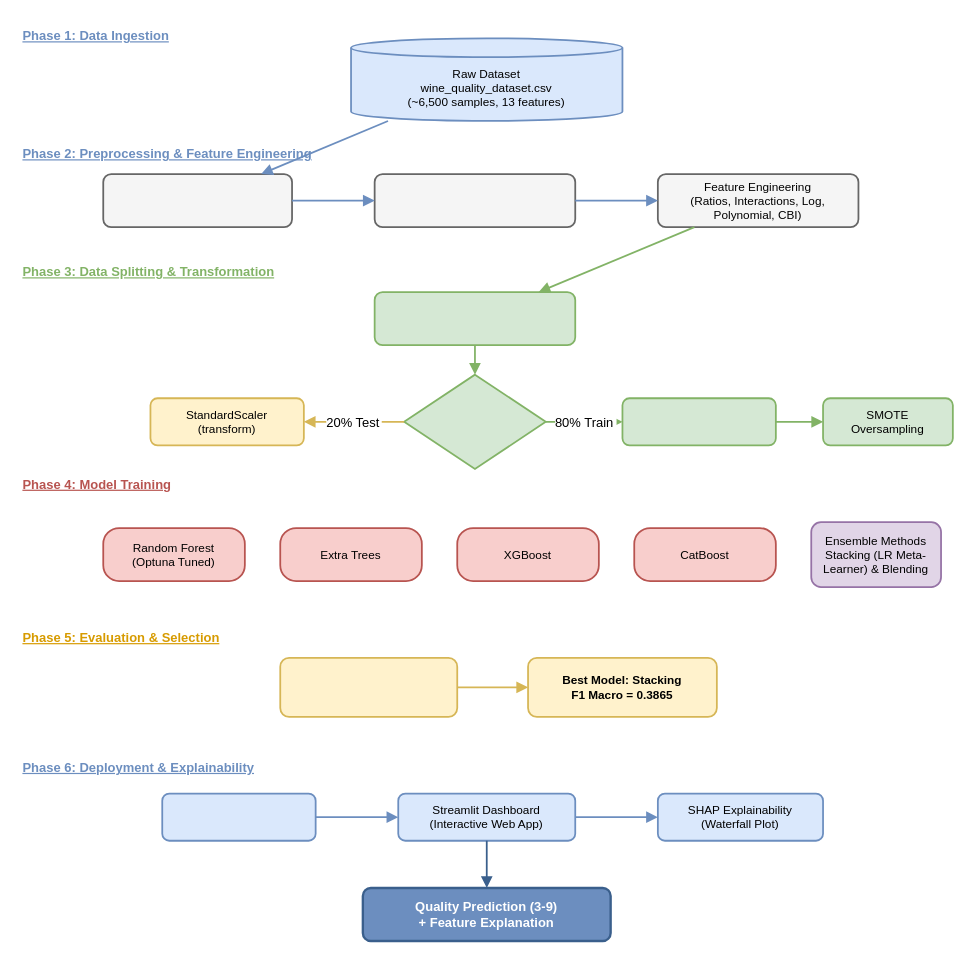
Some shapes in this 973 by 962 pixel diagram are drawn without their labels. The shapes that lost their labels are listed below. From the top down, each one's box as (x1, y1, x2, y2) in pixels, then its label:
(102, 173, 292, 228): Missing Value Imputation (Median Strategy)
(373, 173, 576, 228): Exploratory Data Analysis (Distributions, Heatmaps)
(373, 291, 576, 346): Feature Selection (Top 15 by Correlation)
(403, 373, 546, 469): Train/Test Split (80/20, Stratified)
(621, 397, 776, 446): SimpleImputer
(279, 656, 458, 717): Model Evaluation on Test Set (F1 Macro)
(161, 792, 316, 841): Model Serialization (joblib export)
